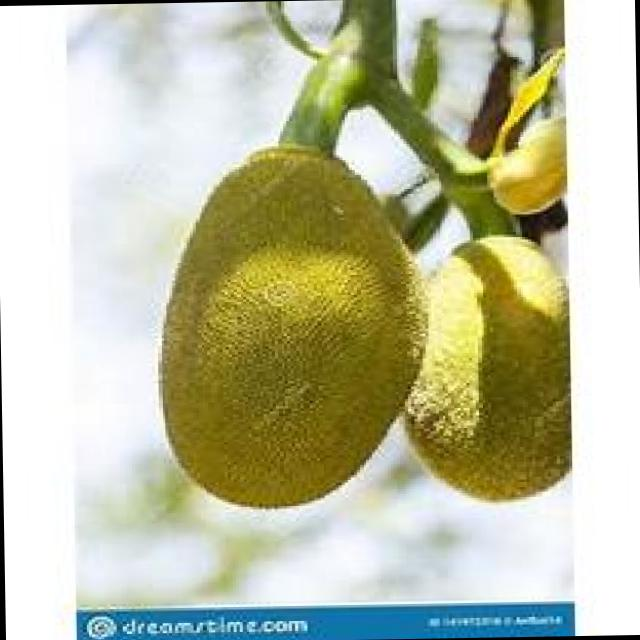Fruit: (132, 123, 456, 528), (390, 218, 578, 511)
